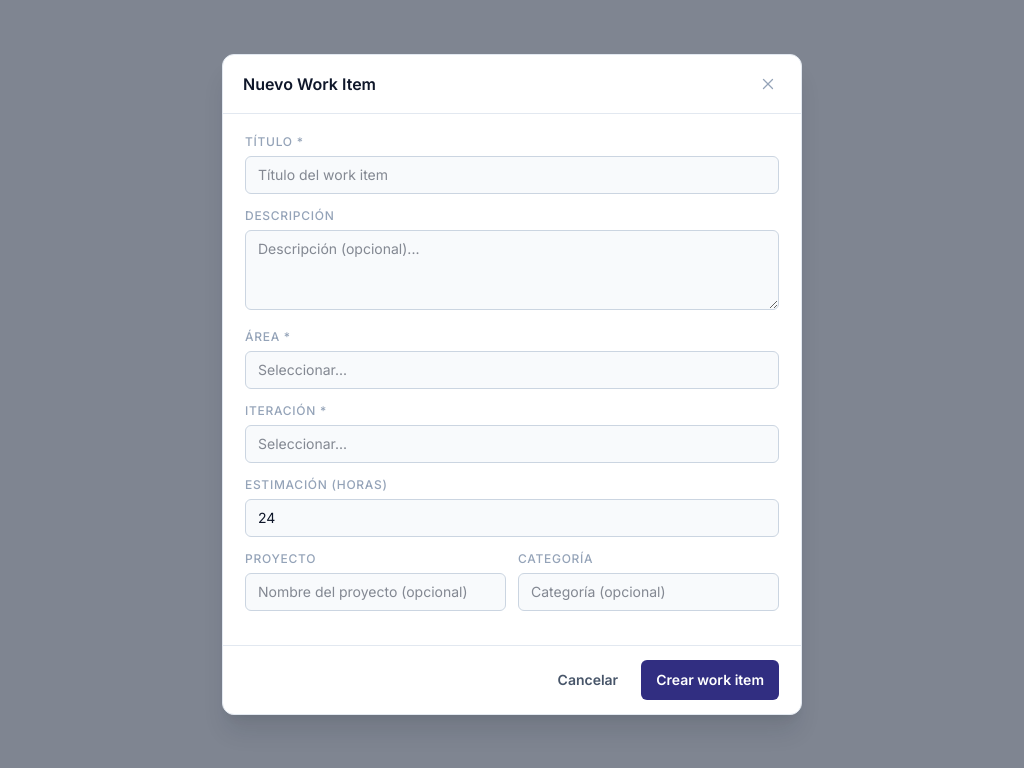
CreateWorkItemModal › requires title, area, and iteration before submitting
Click the button "Crear work item" at (710, 680), box [641,660,779,700]
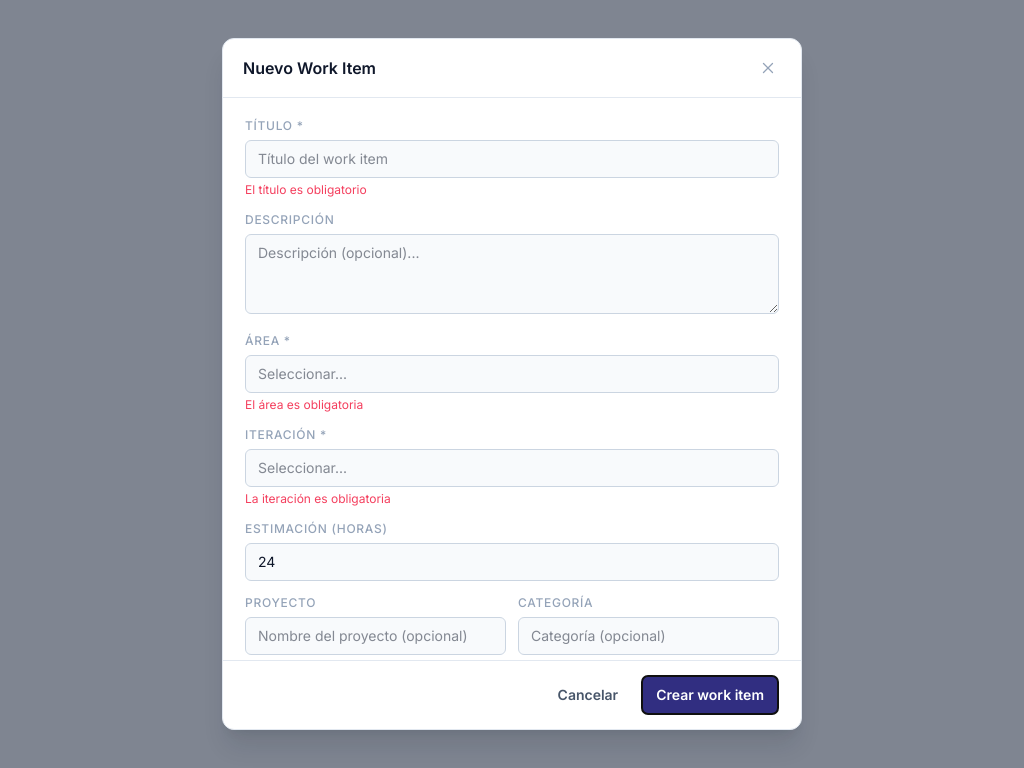
Check: the text "El título es obligatorio" is shown, box [245,182,367,197]
Check: the text "El área es obligatoria" is shown, box [245,397,363,412]
Check: the text "La iteración es obligatoria" is shown, box [245,491,391,506]
